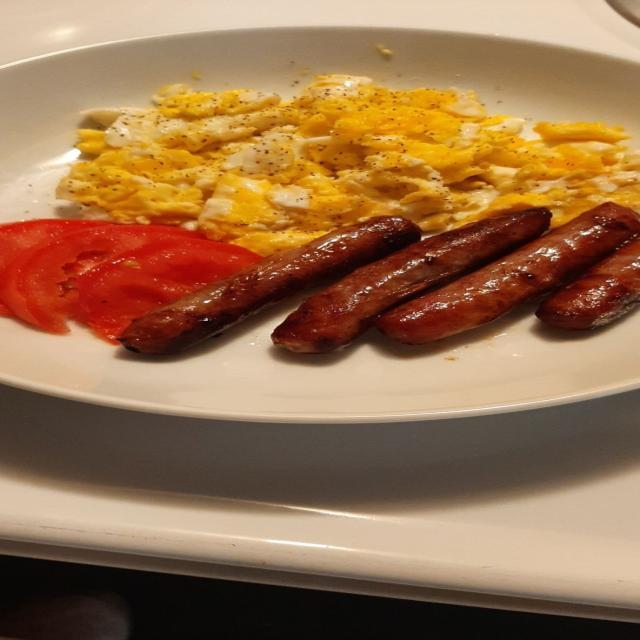sausage: (119, 217, 420, 354), (272, 209, 551, 353), (376, 203, 639, 344), (536, 237, 639, 329)
sliced tomatoe: (0, 225, 223, 333), (77, 240, 261, 339), (0, 219, 102, 274)
